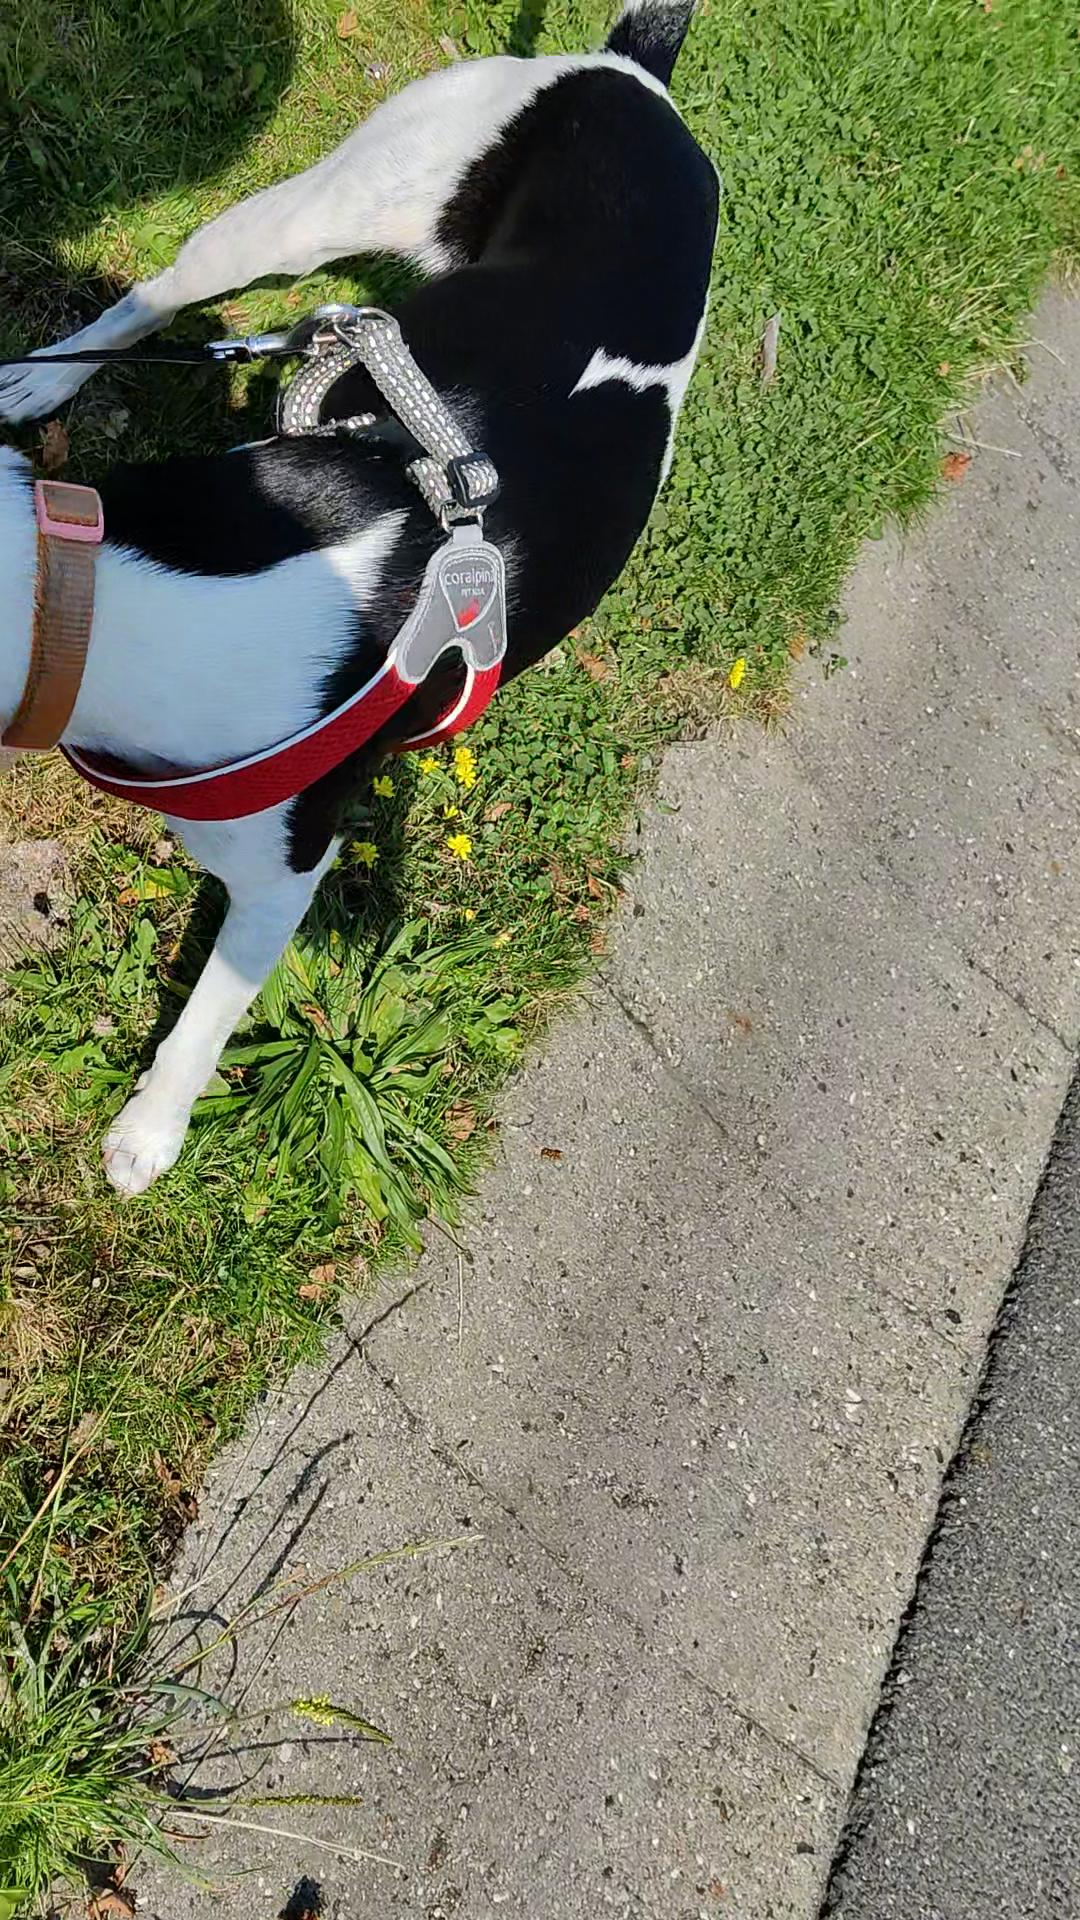Dog: (0, 0, 753, 1218)
